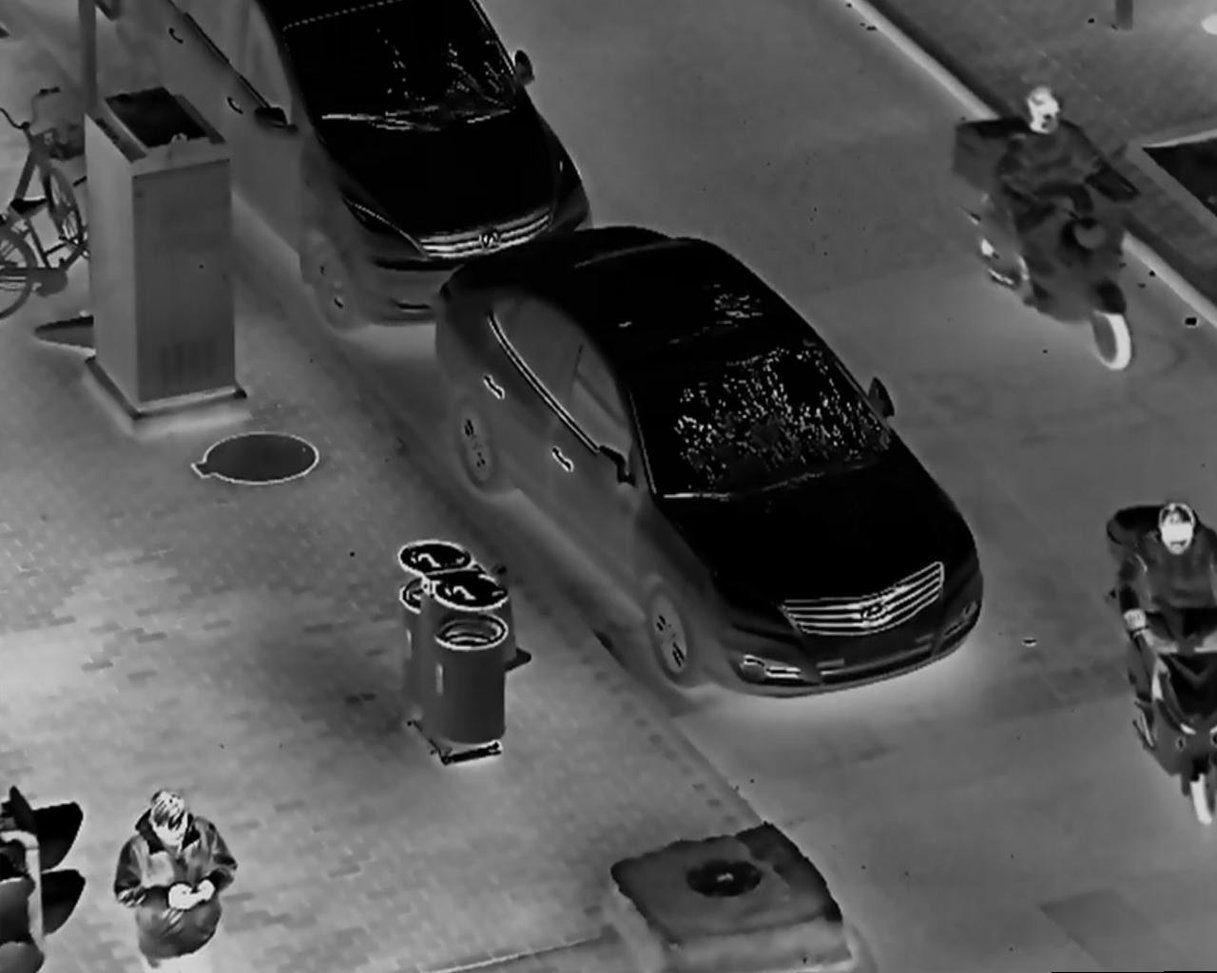person: (1005, 71, 1139, 314), (1114, 492, 1217, 754), (106, 787, 250, 973)
